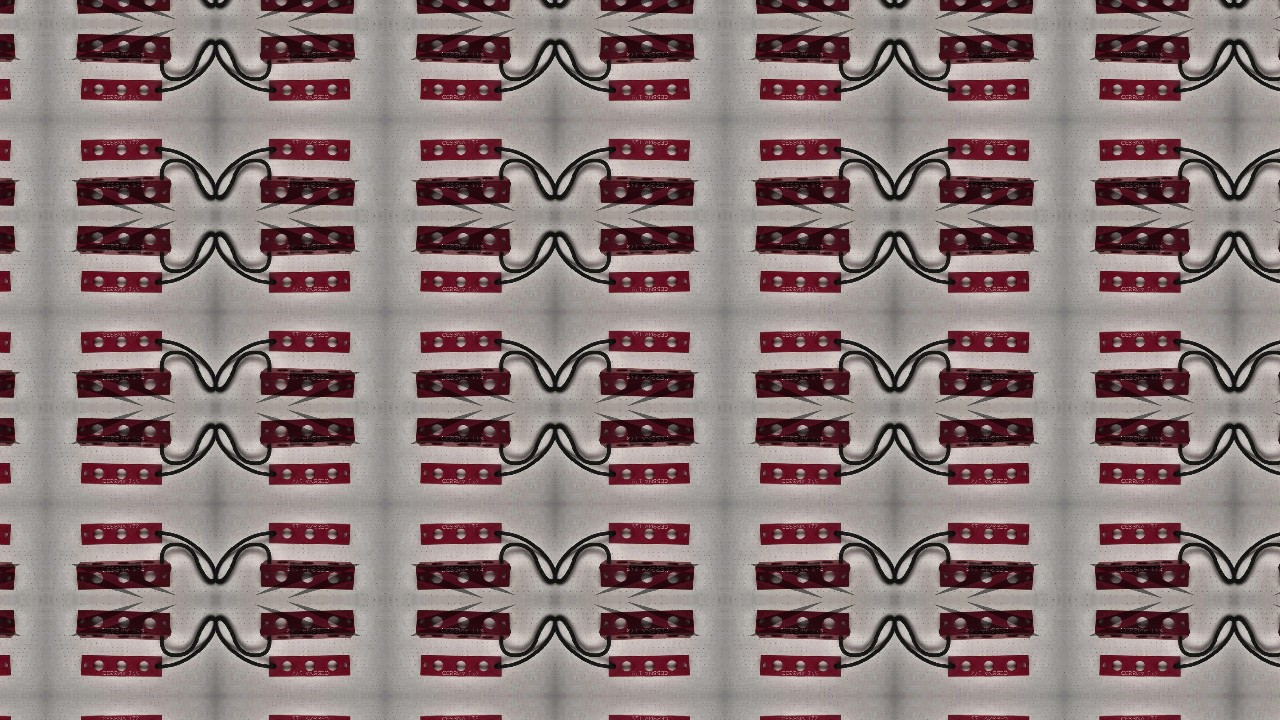chock: (75, 32, 172, 64), (258, 32, 355, 64), (415, 32, 512, 64), (598, 32, 695, 64), (755, 32, 852, 64), (938, 32, 1035, 64), (1095, 32, 1192, 64), (75, 367, 172, 399), (258, 367, 355, 399), (415, 367, 512, 399), (598, 367, 695, 399), (755, 367, 852, 399), (938, 367, 1035, 399), (1095, 367, 1192, 399), (75, 417, 172, 449), (258, 417, 355, 449), (415, 417, 512, 449), (598, 417, 695, 449), (755, 417, 852, 449), (938, 417, 1035, 449), (1095, 417, 1192, 449), (75, 175, 172, 206), (258, 175, 355, 206), (415, 175, 512, 206), (598, 175, 695, 206), (755, 175, 852, 206), (938, 175, 1035, 206), (1095, 175, 1192, 206), (75, 225, 172, 256), (258, 225, 355, 256), (415, 225, 512, 256), (598, 225, 695, 256), (755, 225, 852, 256), (938, 225, 1035, 256), (1095, 225, 1192, 256), (75, 560, 172, 591), (258, 560, 355, 591), (415, 560, 512, 591), (598, 560, 695, 591), (755, 560, 852, 591), (938, 560, 1035, 591), (1095, 560, 1192, 591), (75, 610, 172, 641), (258, 610, 355, 641), (415, 610, 512, 641), (598, 610, 695, 641), (755, 610, 852, 641), (938, 610, 1035, 641), (1095, 610, 1192, 641), (79, 78, 164, 101), (266, 78, 351, 101), (419, 78, 504, 101), (606, 78, 691, 101), (759, 78, 844, 101), (946, 78, 1031, 101), (1099, 78, 1184, 101), (79, 138, 164, 161), (266, 138, 351, 161), (419, 138, 504, 161), (606, 138, 691, 161), (759, 138, 844, 161), (946, 138, 1031, 161), (1099, 138, 1184, 161), (79, 270, 164, 293), (266, 270, 351, 293), (419, 270, 504, 293), (606, 270, 691, 293), (759, 270, 844, 293), (946, 270, 1031, 293), (1099, 270, 1184, 293), (79, 330, 164, 353), (266, 330, 351, 353), (419, 330, 504, 353), (606, 330, 691, 353), (759, 330, 844, 353), (946, 330, 1031, 353), (1099, 330, 1184, 353), (79, 463, 164, 486), (266, 463, 351, 486), (419, 463, 504, 486), (606, 463, 691, 486), (759, 463, 844, 486), (946, 463, 1031, 486), (1099, 463, 1184, 486), (79, 523, 164, 546), (266, 523, 351, 546), (419, 523, 504, 546), (606, 523, 691, 546), (759, 523, 844, 546), (946, 523, 1031, 546), (1099, 523, 1184, 546), (79, 655, 164, 678), (266, 655, 351, 678), (419, 655, 504, 678), (606, 655, 691, 678), (759, 655, 844, 678), (946, 655, 1031, 678), (1099, 655, 1184, 678), (75, 0, 172, 14), (258, 0, 355, 14), (415, 0, 512, 14), (598, 0, 695, 14), (755, 0, 852, 14), (938, 0, 1035, 14), (1095, 0, 1192, 14), (0, 32, 15, 64), (0, 367, 15, 399), (0, 417, 15, 449), (0, 175, 15, 206), (0, 225, 15, 256), (0, 560, 15, 591), (0, 610, 15, 641), (79, 715, 164, 720), (266, 715, 351, 720), (419, 715, 504, 720), (606, 715, 691, 720), (759, 715, 844, 720), (946, 715, 1031, 720), (1099, 715, 1184, 720), (0, 78, 11, 101), (0, 138, 11, 161), (0, 270, 11, 293), (0, 330, 11, 353), (0, 463, 11, 486), (0, 523, 11, 546), (0, 655, 11, 678), (0, 0, 15, 14)
